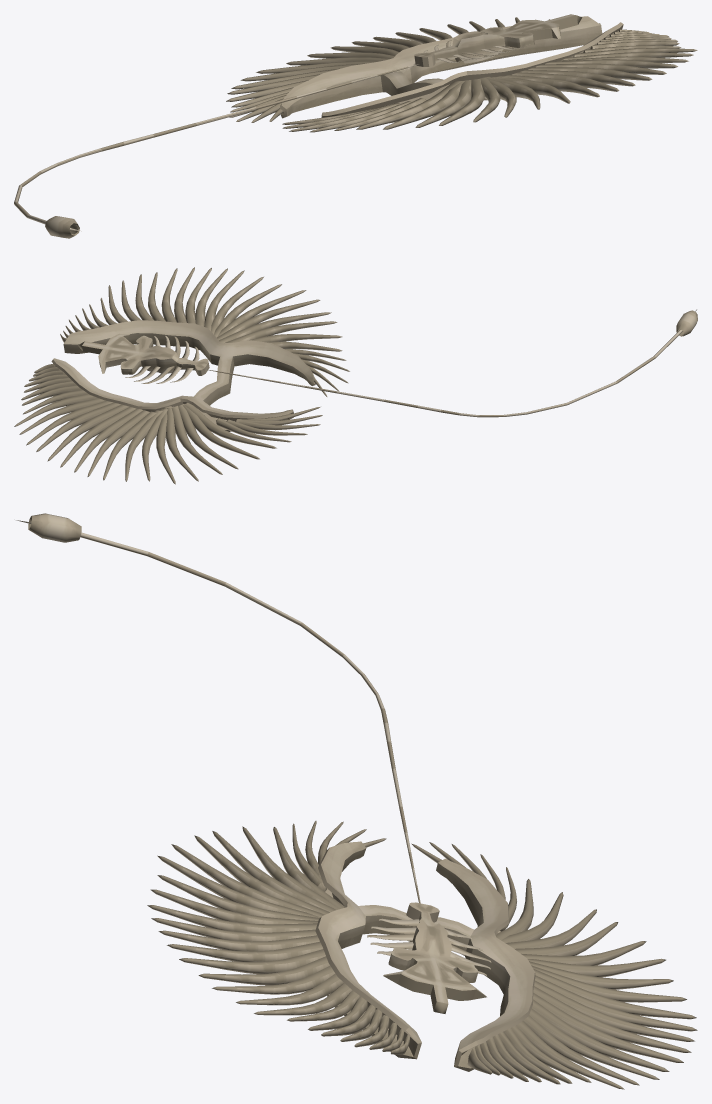
File: StingrayStructure_SoloStingray.fbx
The picture shows the model from 3 angles, top to bottom: view 1: azimuth 30°, elevation 25°; view 2: azimuth 150°, elevation 25°; view 3: azimuth 270°, elevation 25°; orthographic projection. The views are drawn at different scales.
Parts seen in each view (by area): view 1: Stingy1; view 2: Stingy1; view 3: Stingy1.
Part boxes in pixels (x1,y1,x2,y2): Stingy1: (14, 14, 697, 238); Stingy1: (14, 267, 697, 484); Stingy1: (16, 513, 697, 1089).
Size of the model in its own units: 155 by 104 by 32.43.
